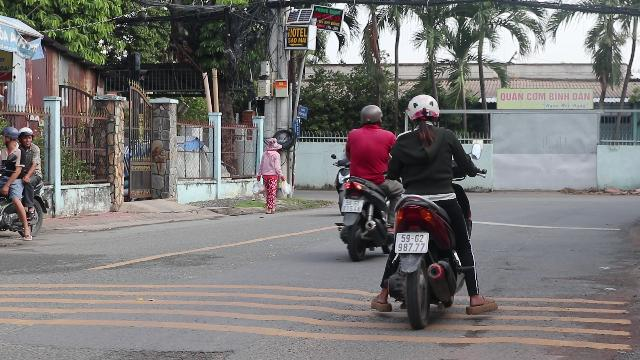helmet: (406, 93, 440, 127), (358, 103, 382, 126), (1, 126, 19, 148), (18, 126, 34, 146)
licenseplate: (396, 232, 428, 252), (342, 199, 362, 213)
motorcyclist: (378, 92, 486, 322), (332, 103, 398, 259), (0, 125, 48, 247)
